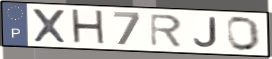7: (111, 10, 144, 48)
H: (70, 8, 109, 47)
J: (191, 16, 219, 49)
O: (225, 15, 263, 53)
R: (149, 13, 184, 48)
X: (30, 7, 69, 45)
